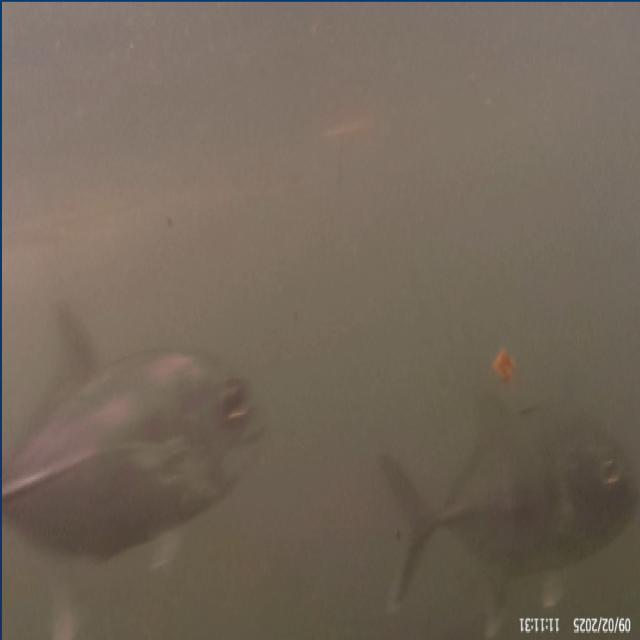ikan: (354, 327, 634, 592), (14, 295, 277, 559)
